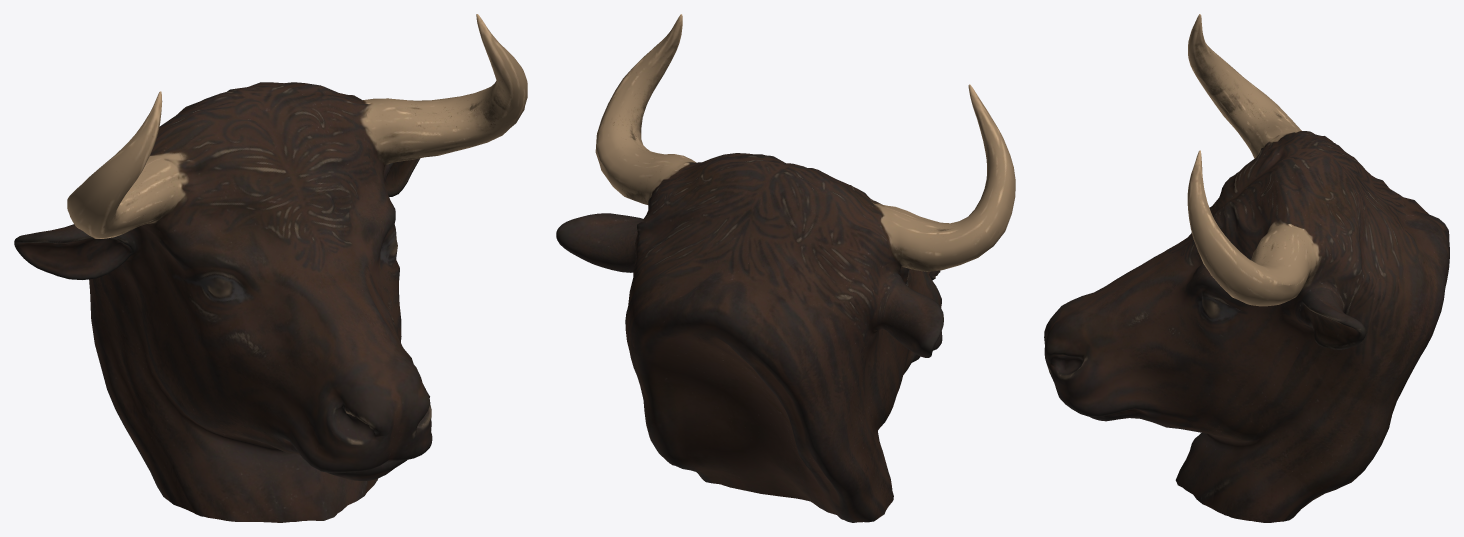
Rendered from mask_bull.glb.
3 views of the same model, side by side, from view 1: azimuth 30°, elevation 25°; view 2: azimuth 150°, elevation 25°; view 3: azimuth 270°, elevation 25° (orthographic). The views are drawn at different scales.
Visible parts, largest first — view 1: mask_bull; view 2: mask_bull; view 3: mask_bull.
Boxes of the visible parts, left/top/right/bottom form: mask_bull: left=14, top=14, right=527, bottom=522; mask_bull: left=556, top=14, right=1015, bottom=522; mask_bull: left=1044, top=14, right=1449, bottom=522.
Bounding box in the file's own units: 0.4289 × 0.4238 × 0.3879.
1 material, 1 textured.
